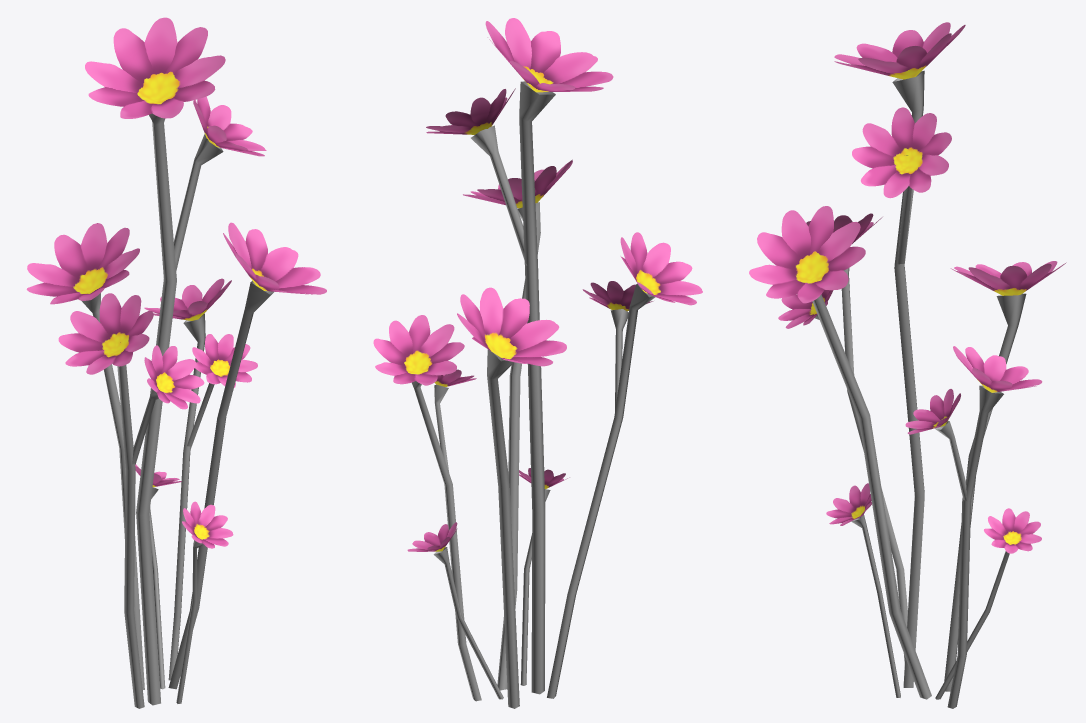
The model's file is GM_Flower.fbx.
3 renders of one model, left to right at view 1: azimuth 30°, elevation 25°; view 2: azimuth 150°, elevation 25°; view 3: azimuth 270°, elevation 25°, orthographic.
Parts seen in each view (by area): view 1: GM_Flowers; view 2: GM_Flowers; view 3: GM_Flowers.
Part boxes in pixels (box(x1,y1,x2,y2)): GM_Flowers: box(26, 17, 326, 708); GM_Flowers: box(373, 18, 702, 708); GM_Flowers: box(749, 22, 1066, 708).
Size of the model in its own units: 43.79 by 110 by 49.77.
